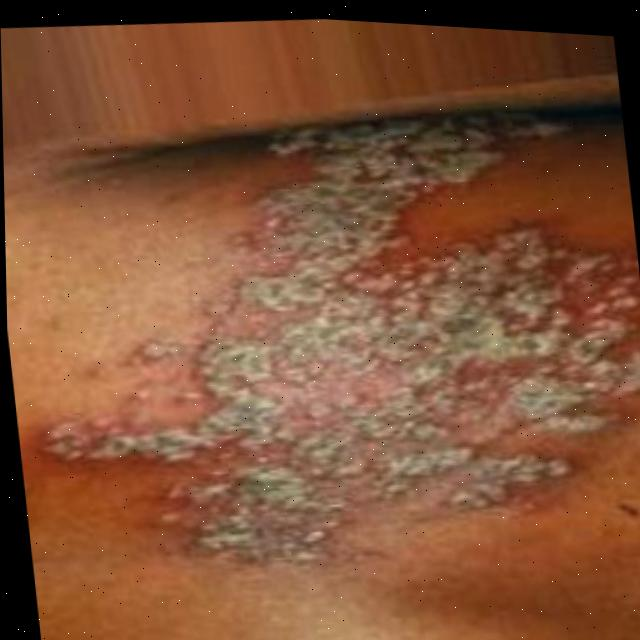Shingles: (23, 48, 640, 586)
